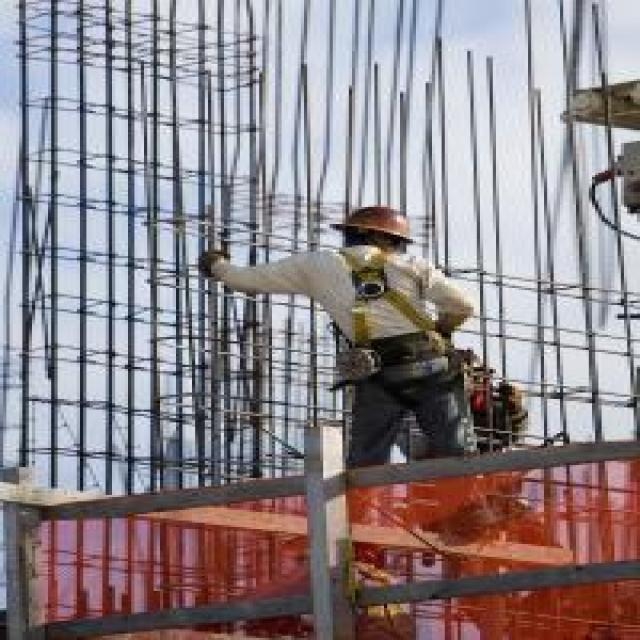hat: (333, 196, 429, 275)
